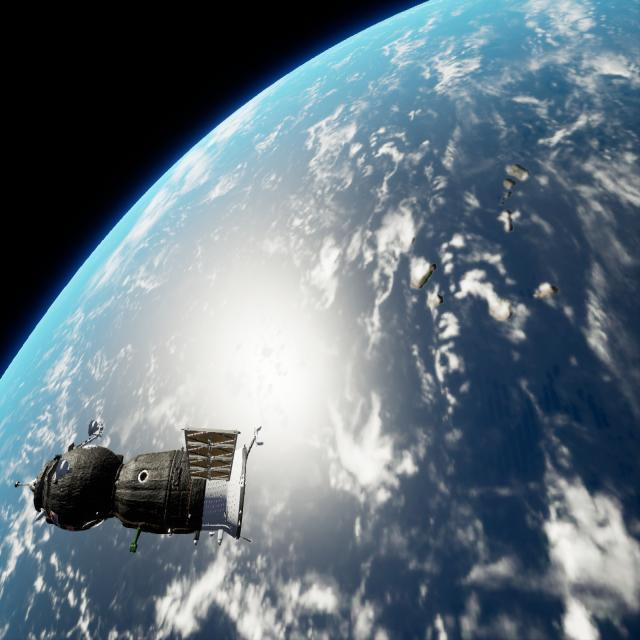Satellites revolving around earth: (2, 1, 638, 638), (13, 418, 264, 554)
